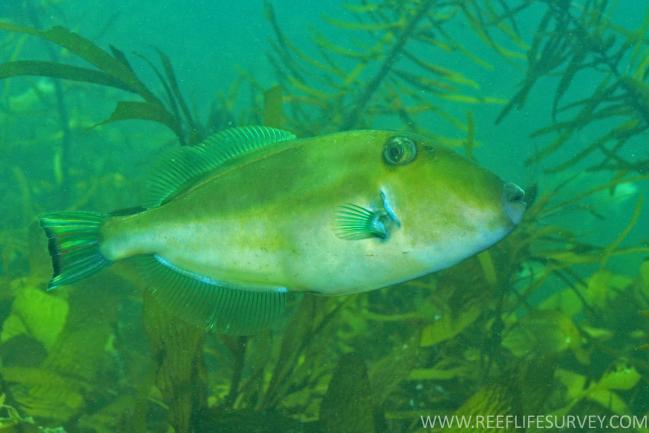fish: (38, 125, 526, 334)
